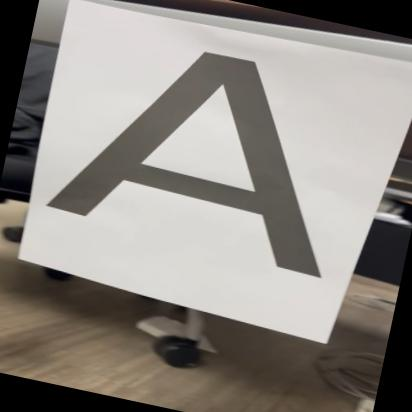seat: (37, 18, 379, 289)
